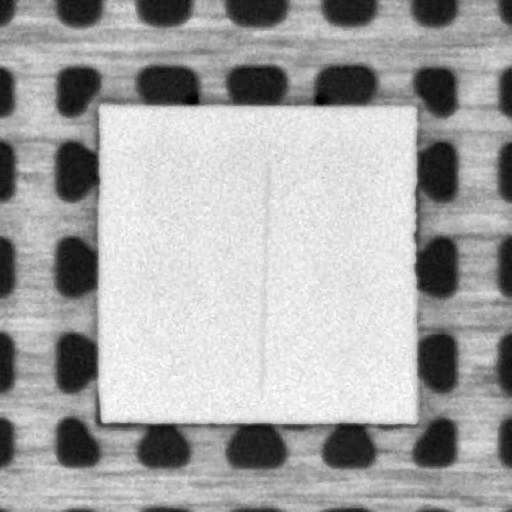DIE_CRACK: (260, 161, 266, 397)
